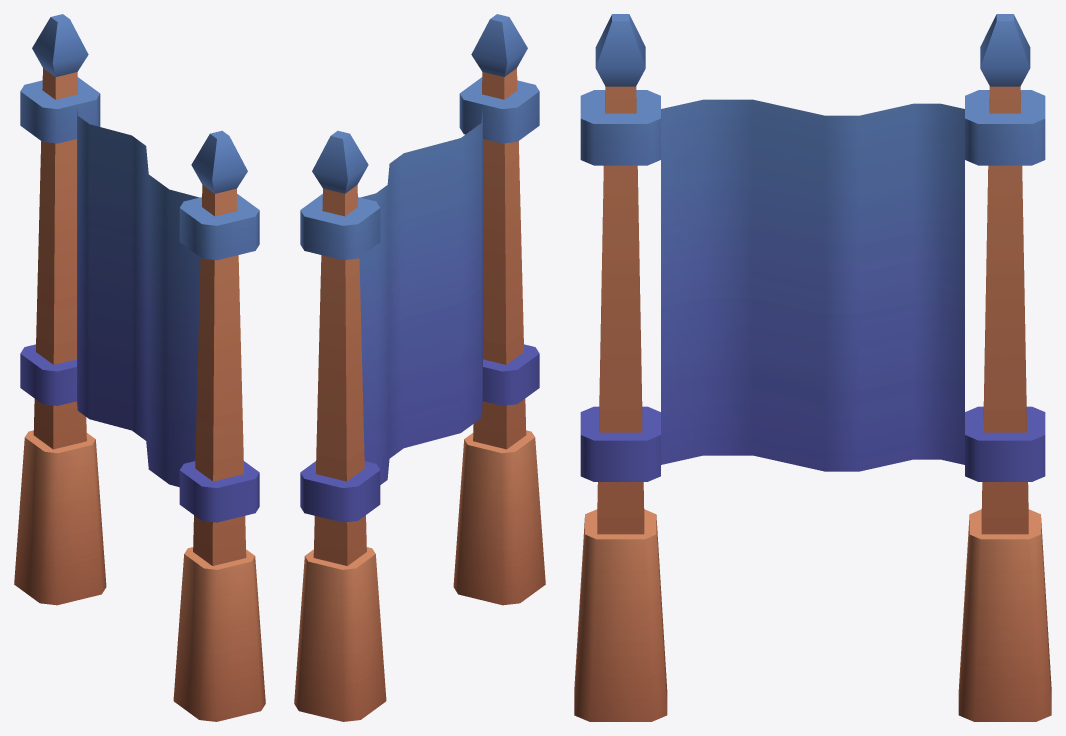
File: flag-wide.glb
The picture shows the model from 3 angles, left to right: view 1: azimuth 30°, elevation 25°; view 2: azimuth 150°, elevation 25°; view 3: azimuth 270°, elevation 25°; orthographic projection. The views are drawn at different scales.
Visible parts, largest first — view 1: flag-wide; view 2: flag-wide; view 3: flag-wide.
Part boxes in pixels (x1=…): flag-wide: x1=14, y1=14, x2=265, y2=721; flag-wide: x1=294, y1=14, x2=545, y2=721; flag-wide: x1=574, y1=14, x2=1051, y2=721.
Size of the model in its own units: 0.1064 by 0.8656 by 0.5469.
Materials: 1 (1 with a texture image).
